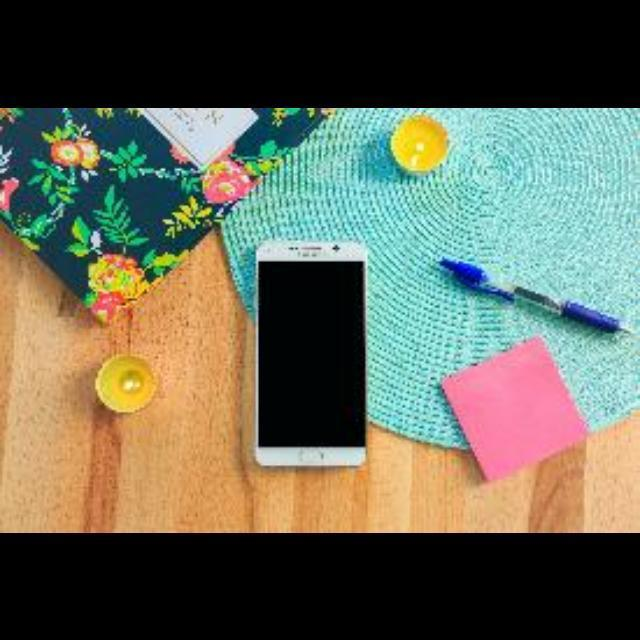PhoneUse: (256, 236, 364, 466)
